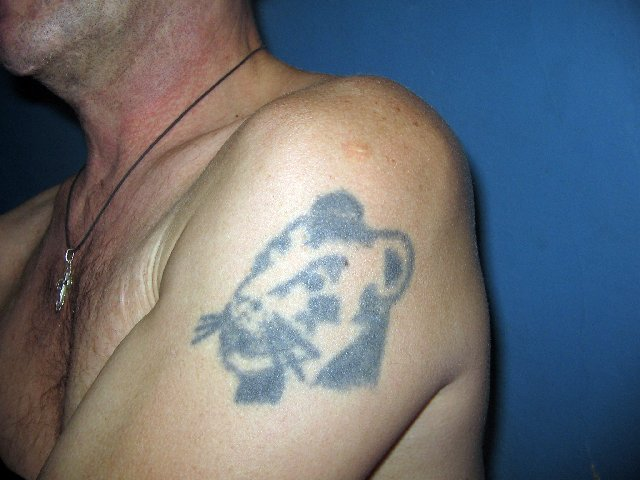tatu5_tigr: (190, 189, 418, 407)
